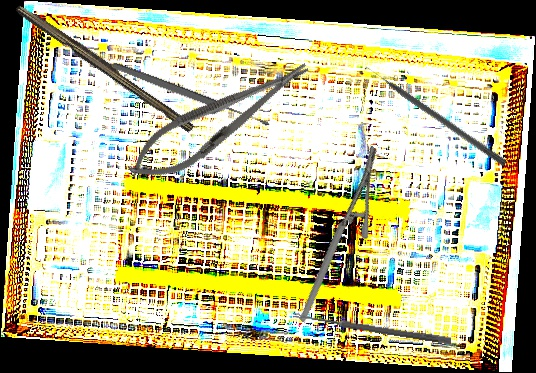Needle Holder: (252, 144, 423, 324), (118, 45, 321, 196)
Pusher: (363, 62, 509, 167)
Scalpel Handle: (12, 0, 199, 134)
Surgical Spoon: (110, 60, 272, 130), (292, 311, 452, 345)
